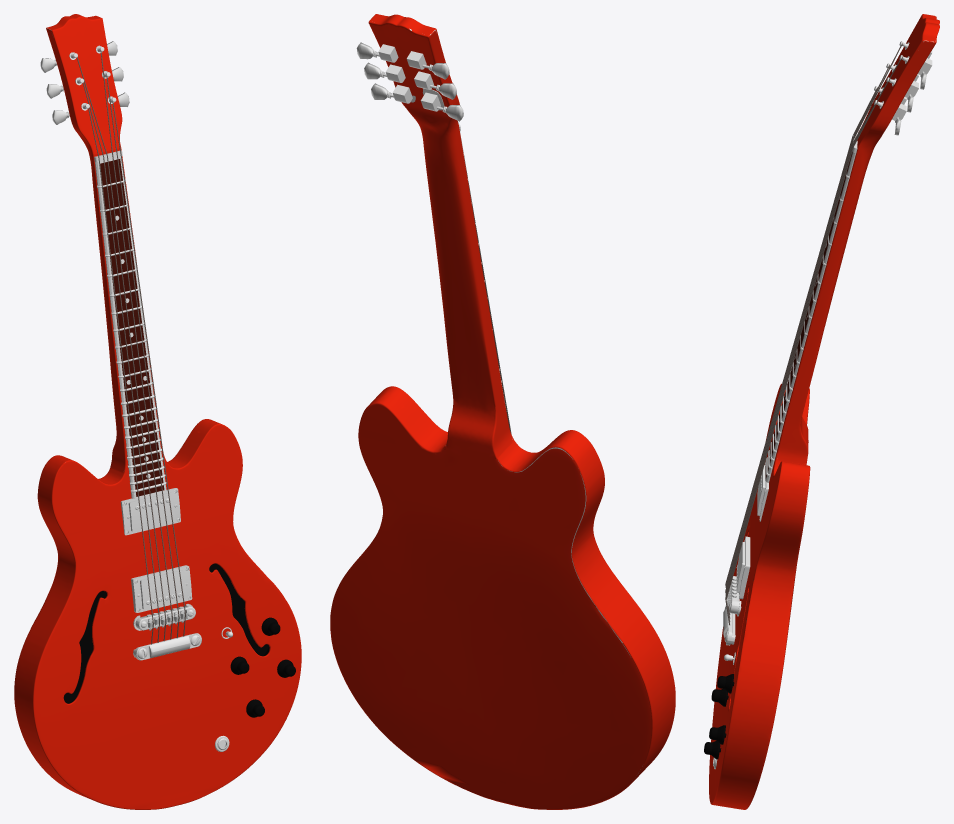
File: 335whole OPT.glb
3 renders of one model, left to right at view 1: azimuth 30°, elevation 25°; view 2: azimuth 150°, elevation 25°; view 3: azimuth 270°, elevation 25°, orthographic. The views are drawn at different scales.
Visible parts, largest first — view 1: varnish, fretboard, strings, pickup_cover, fretbinding, tail_saddle, frets, UN_inside, pickup_ring, mechs, knobs; view 2: varnish, mechs; view 3: varnish, strings, fretbinding, mechs, knobs, fretboard, tail_saddle, frets, pickup_cover, pickup_ring.
Boxes of the visible parts, <box> form: varnish: <box>14,14,301,809</box>; fretboard: <box>100,159,164,496</box>; strings: <box>77,51,185,644</box>; pickup_cover: <box>128,492,186,609</box>; fretbinding: <box>95,156,166,498</box>; tail_saddle: <box>133,604,201,660</box>; frets: <box>97,179,166,492</box>; UN_inside: <box>63,563,269,703</box>; pickup_ring: <box>120,488,192,612</box>; mechs: <box>40,41,129,124</box>; knobs: <box>230,617,295,717</box>; varnish: <box>330,14,675,809</box>; mechs: <box>356,42,463,121</box>; varnish: <box>709,14,939,809</box>; strings: <box>725,42,902,625</box>; fretbinding: <box>765,152,855,482</box>; mechs: <box>874,41,932,135</box>; knobs: <box>704,674,734,759</box>; fretboard: <box>765,152,852,478</box>; tail_saddle: <box>723,576,741,645</box>; frets: <box>766,173,849,476</box>; pickup_cover: <box>736,465,765,592</box>; pickup_ring: <box>739,461,768,599</box>.
Size of the model in its own units: 0.7737 by 1.98 by 0.5506.
